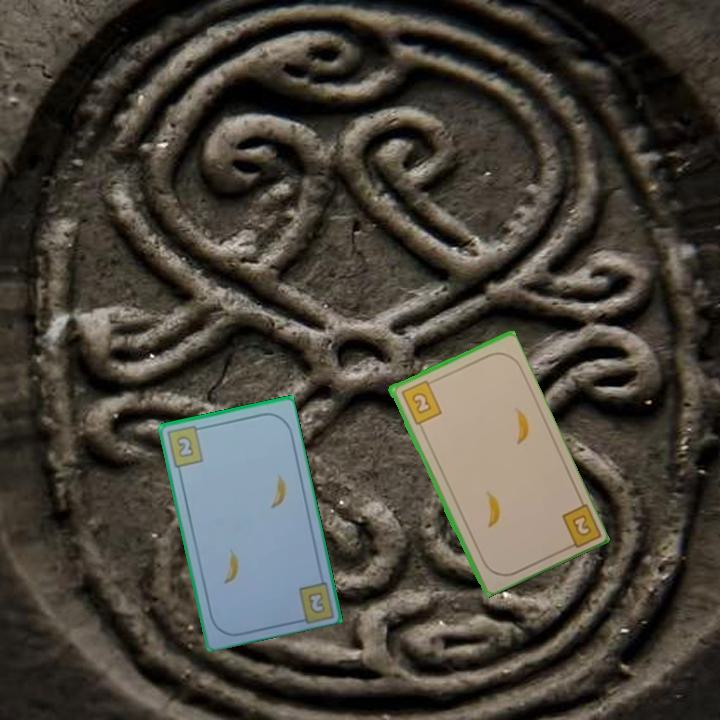2b: (397, 376, 444, 427), (558, 499, 602, 553), (164, 423, 207, 470), (304, 588, 328, 616)
